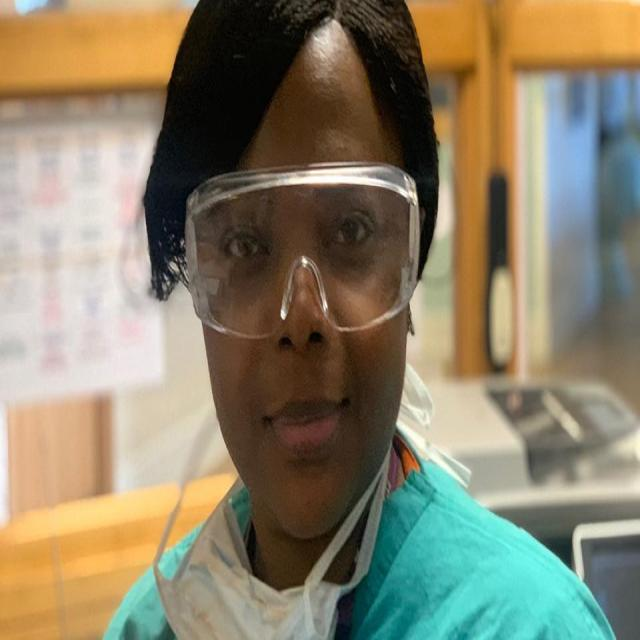Goggles: (181, 159, 427, 340)
Mask: (153, 487, 352, 640)
